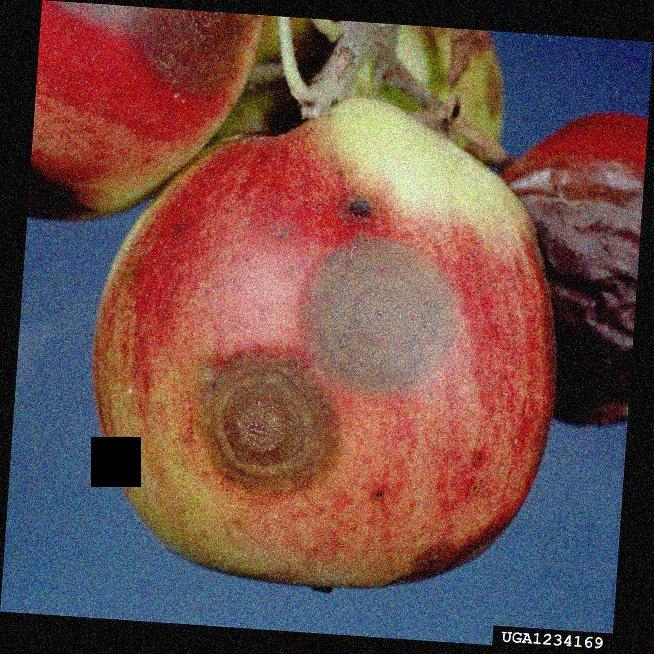rotten apple: (91, 105, 559, 592), (489, 97, 638, 431), (35, 8, 251, 225)
